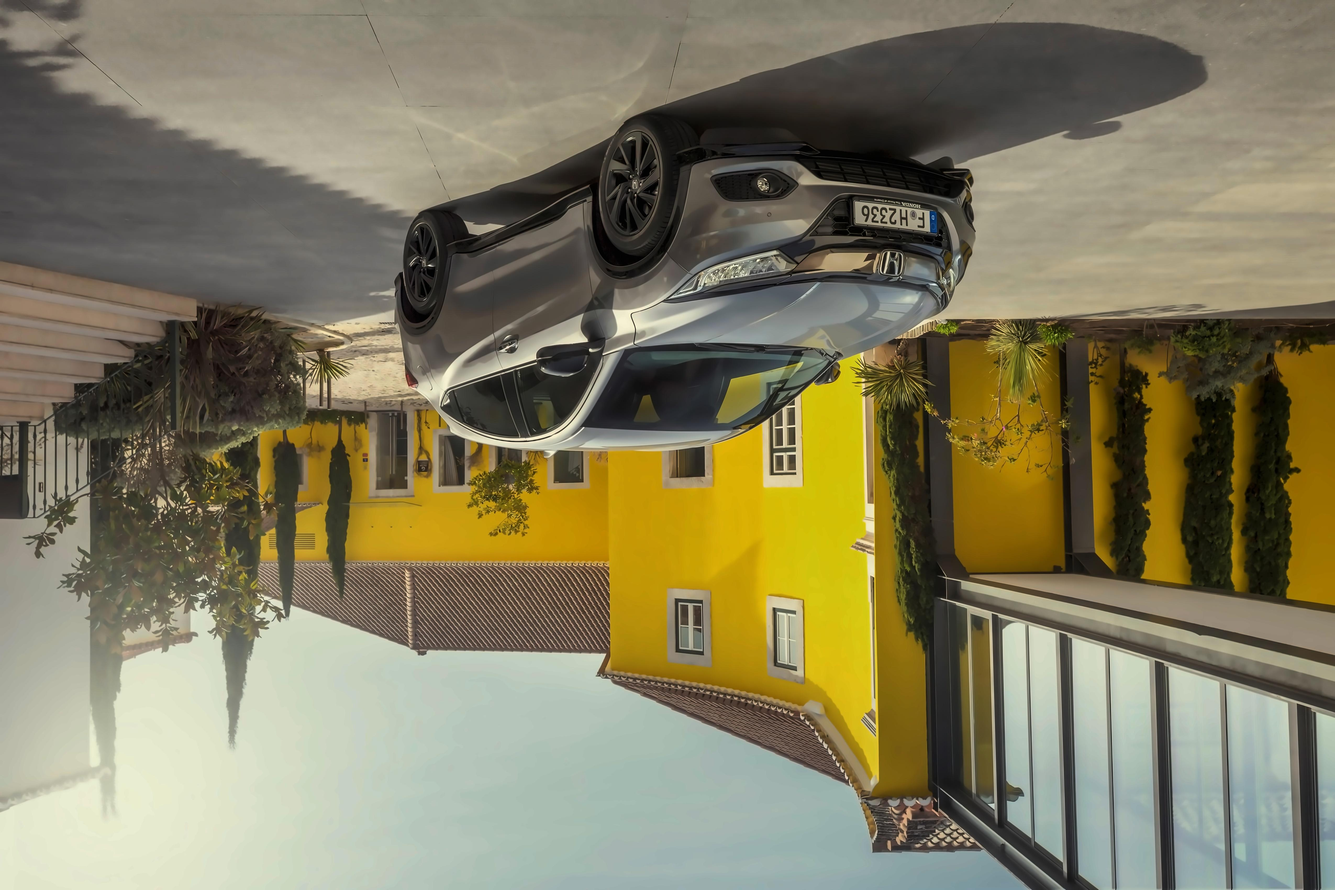Car hood: (629, 282, 948, 359)
Fender - -F-L-: (579, 176, 699, 357)
Fender - -R-L-: (401, 299, 444, 395)
Front bumper: (674, 141, 977, 270)
Headlight - -L-: (661, 244, 808, 306)
Headlight - -R-: (927, 268, 969, 317)
Passenger-s door - -F-L-: (490, 199, 611, 445)
Passenger-s door - -R-L-: (426, 230, 528, 447)
Rear bumper: (382, 273, 424, 353)
Rear light - -L-: (397, 360, 424, 398)
Side bumper - -L-: (440, 176, 602, 264)
Side mirror - -L-: (531, 336, 604, 391)
Side mirror - -R-: (811, 351, 846, 396)
